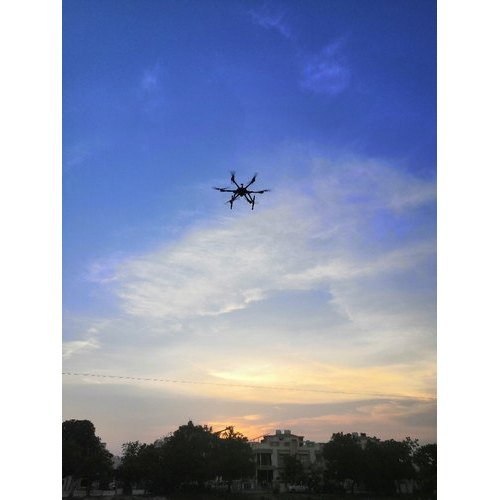drone: (212, 171, 270, 211)
